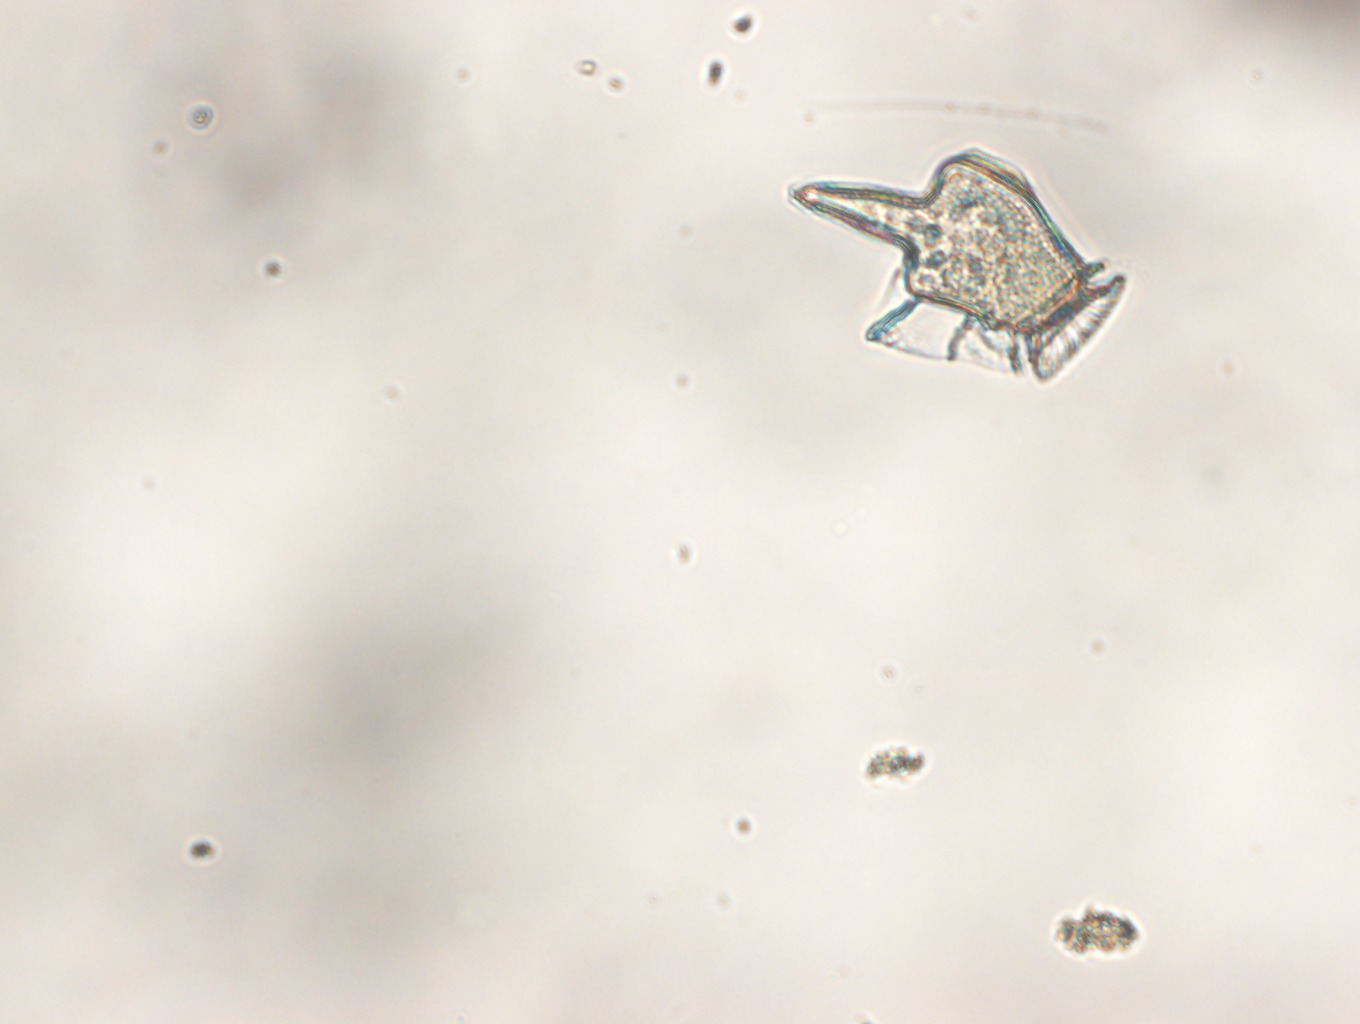dinophysis caudata: (786, 148, 1128, 386)
